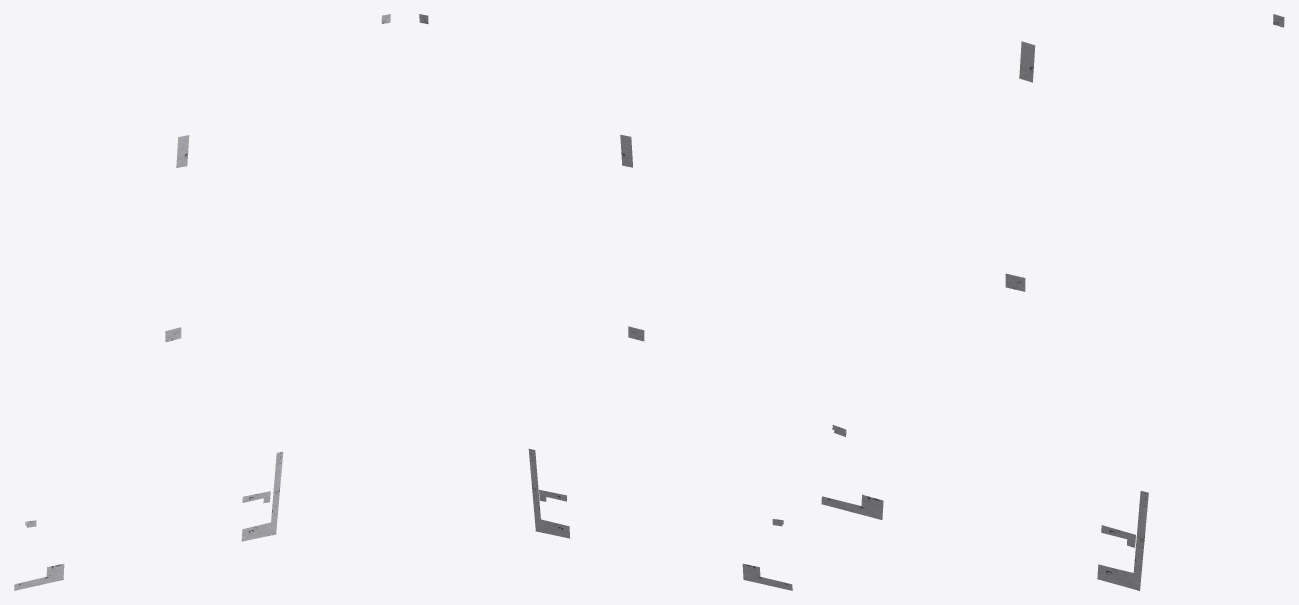
The model's file is tile_roof_134.glb.
3 renders of one model, left to right at view 1: azimuth 30°, elevation 25°; view 2: azimuth 150°, elevation 25°; view 3: azimuth 330°, elevation 25°, orthographic. The views are drawn at different scales.
Bounding box in the file's own units: 798 × 999 × 8.17.
Materials: 1 (1 with a texture image).
